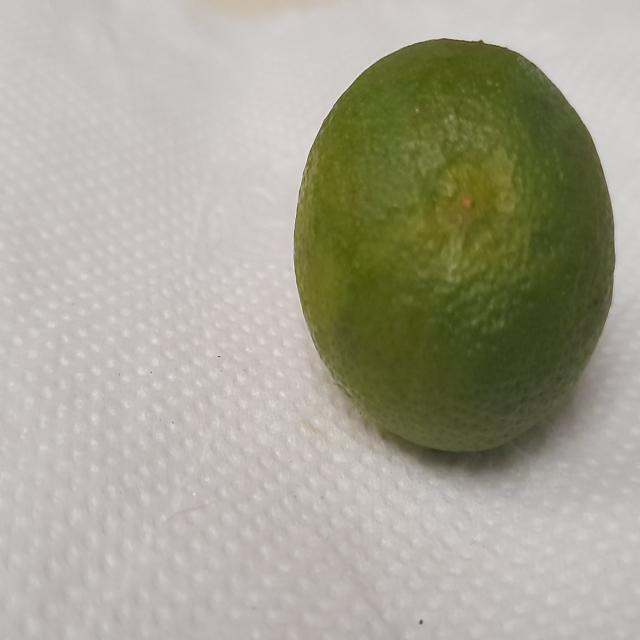heathy: (289, 29, 619, 473)
